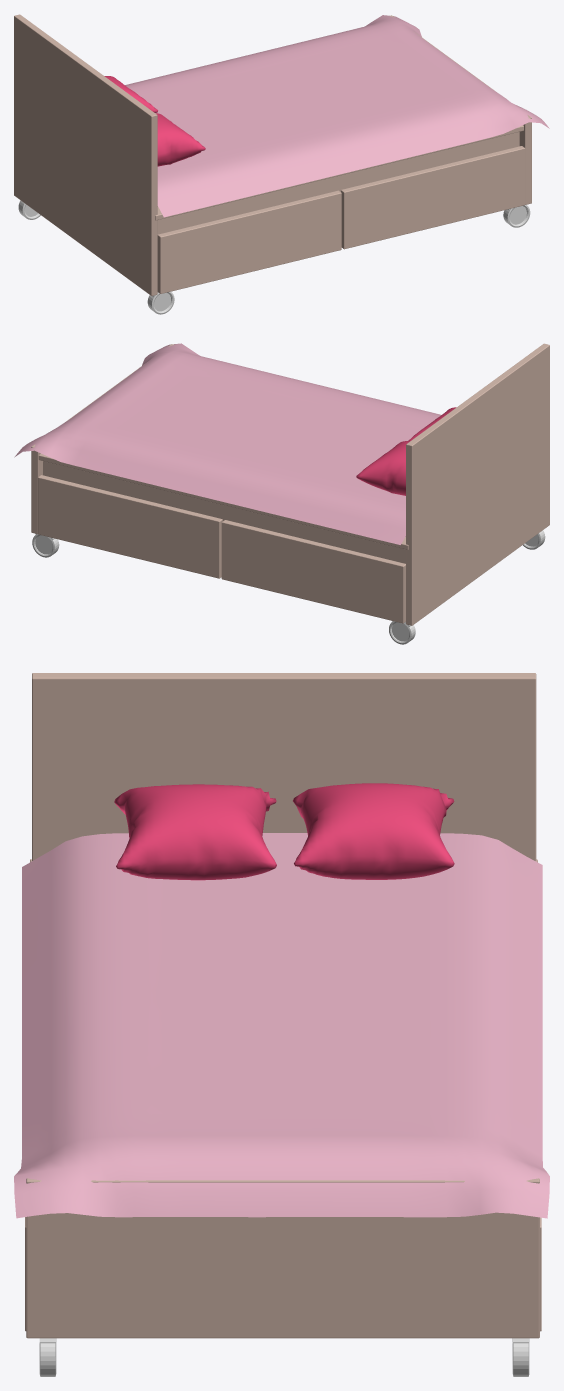
Rendered from Bed.fbx.
3 views of the same model, one above another, from view 1: azimuth 30°, elevation 25°; view 2: azimuth 150°, elevation 25°; view 3: azimuth 270°, elevation 25° (orthographic). The views are drawn at different scales.
Parts seen in each view (by area): view 1: BedFrame, BedSheet, Pillow.001, Wheel.001, Wheel; view 2: BedFrame, BedSheet, Pillow, Wheel.003, Wheel.002; view 3: BedSheet, BedFrame, Pillow.001, Pillow.
Part boxes in pixels (<box>): BedFrame: <box>14,14,531,295</box>; BedSheet: <box>125,15,549,217</box>; Pillow.001: <box>155,113,205,166</box>; Wheel.001: <box>147,291,174,314</box>; Wheel: <box>503,205,530,227</box>; BedFrame: <box>31,343,549,625</box>; BedSheet: <box>14,343,441,544</box>; Pillow: <box>356,441,409,495</box>; Wheel.003: <box>389,621,415,644</box>; Wheel.002: <box>32,533,59,557</box>; BedSheet: <box>14,833,549,1218</box>; BedFrame: <box>25,673,541,1338</box>; Pillow.001: <box>114,784,276,880</box>; Pillow: <box>293,783,454,879</box>.
Bounding box in the file's own units: 1398 × 686 × 896.
